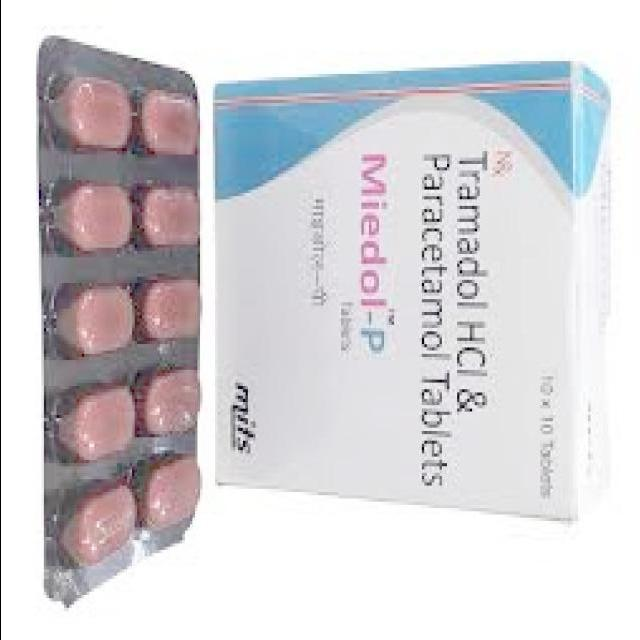authentic: (205, 48, 625, 532), (31, 30, 212, 628)
